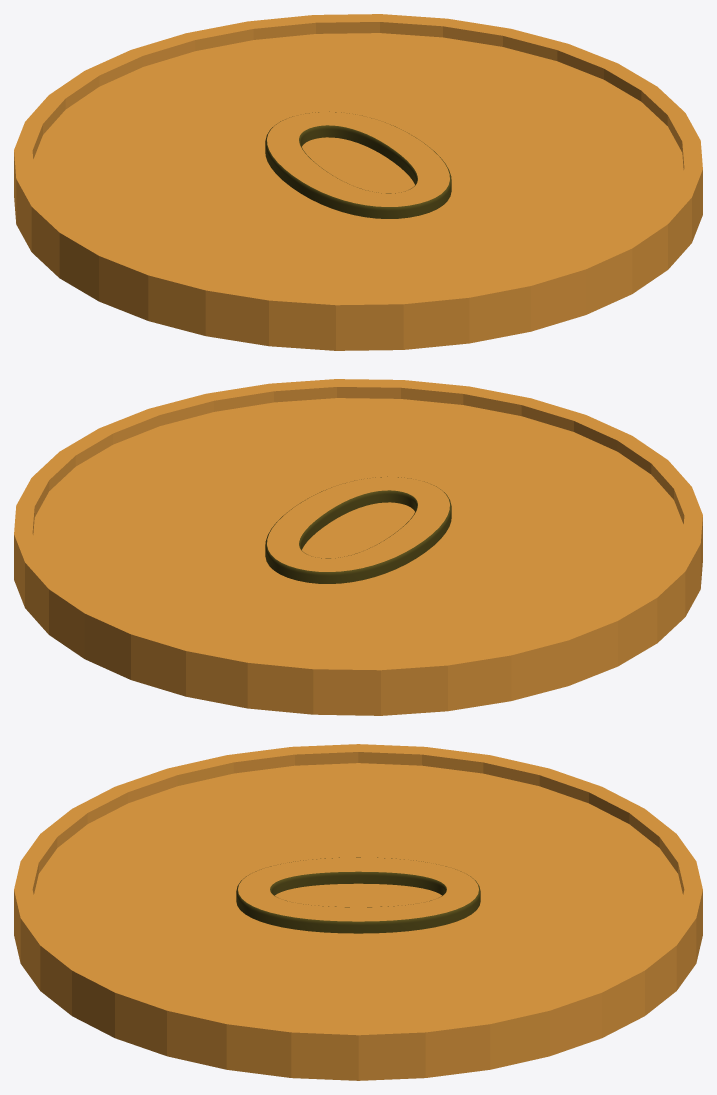
The model's file is 0Coin.glb.
3 views of the same model, one above another, from view 1: azimuth 30°, elevation 25°; view 2: azimuth 150°, elevation 25°; view 3: azimuth 270°, elevation 25° (orthographic).
Parts seen in each view (by area): view 1: Coin, Zero; view 2: Coin, Zero; view 3: Coin, Zero.
Boxes of the visible parts, x1,y1,x2,y2 form: Coin: [14, 14, 702, 350]; Zero: [265, 111, 451, 218]; Coin: [14, 379, 702, 715]; Zero: [265, 476, 451, 583]; Coin: [14, 744, 702, 1080]; Zero: [236, 857, 480, 933].
Size of the model in its own units: 200 by 14.65 by 200.
